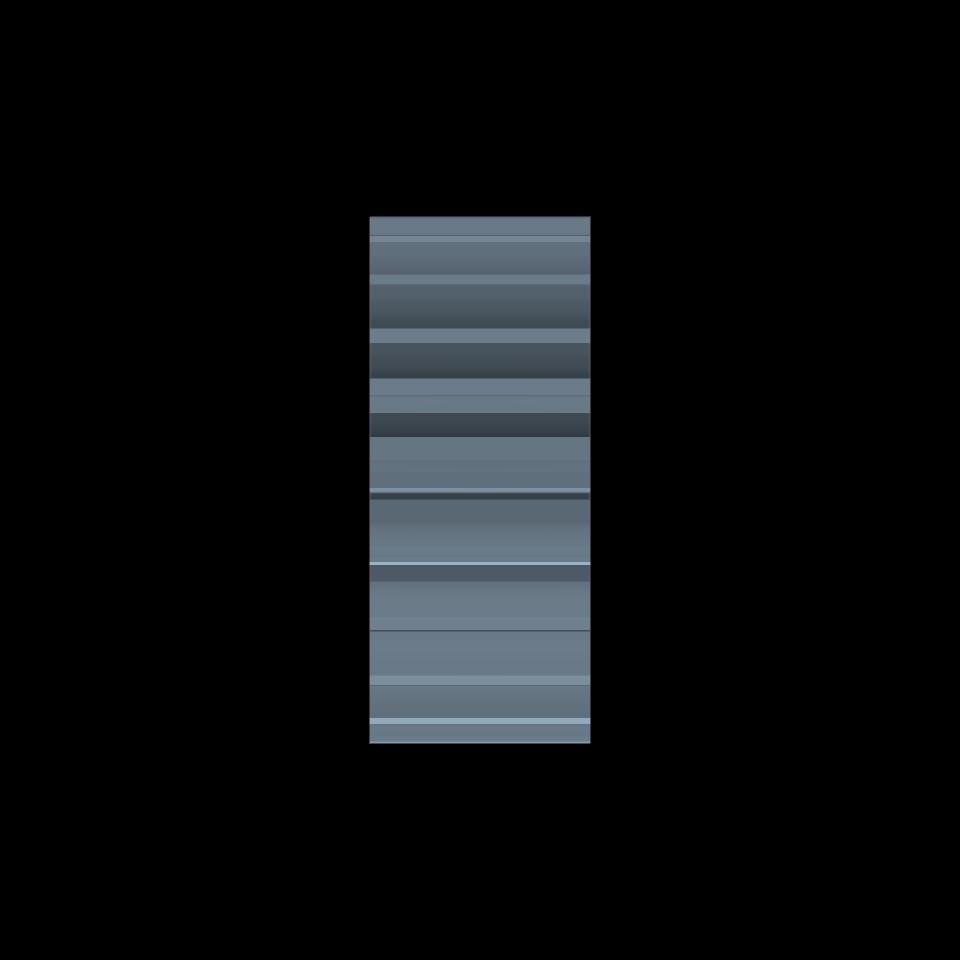Straight: (369, 217, 589, 744)
